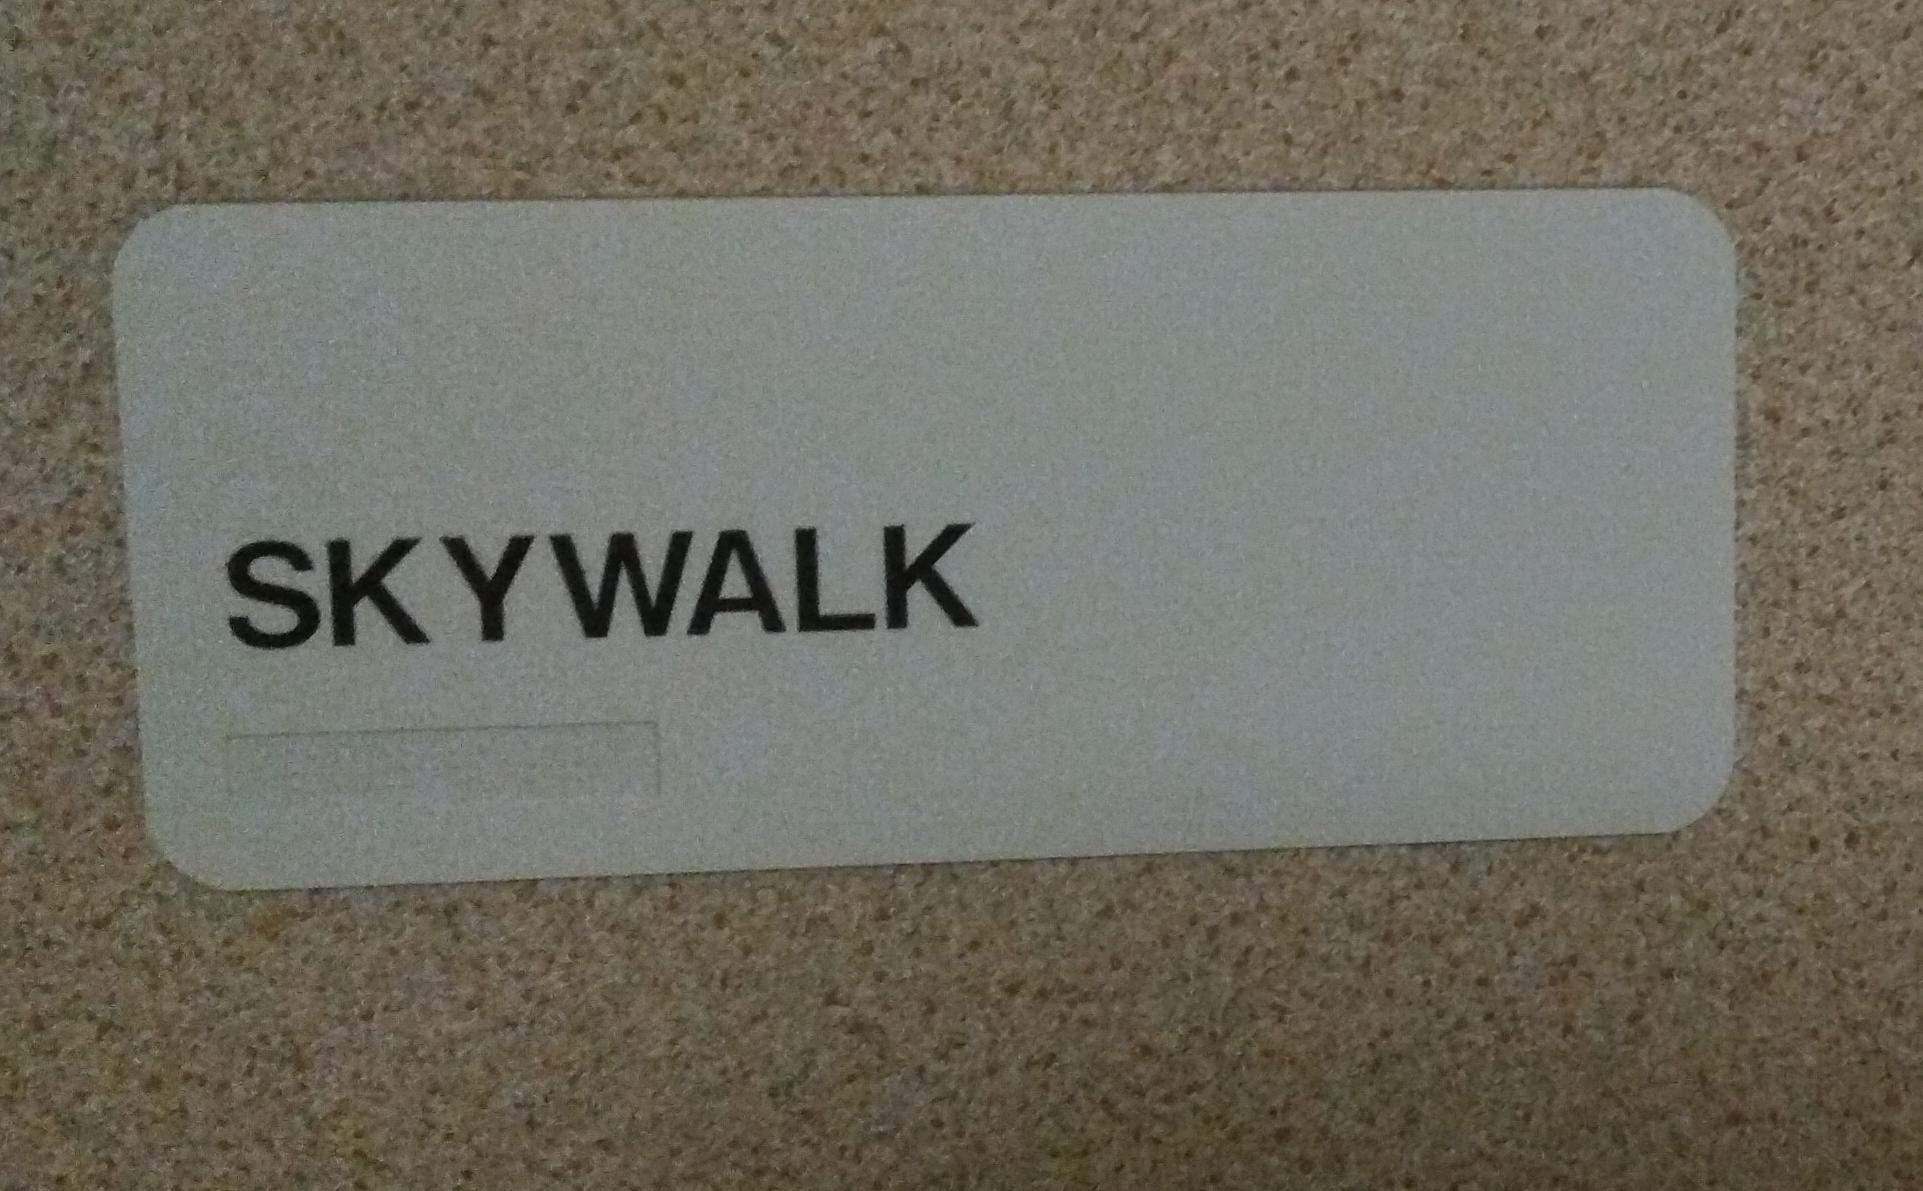sign: (113, 191, 1731, 893)
